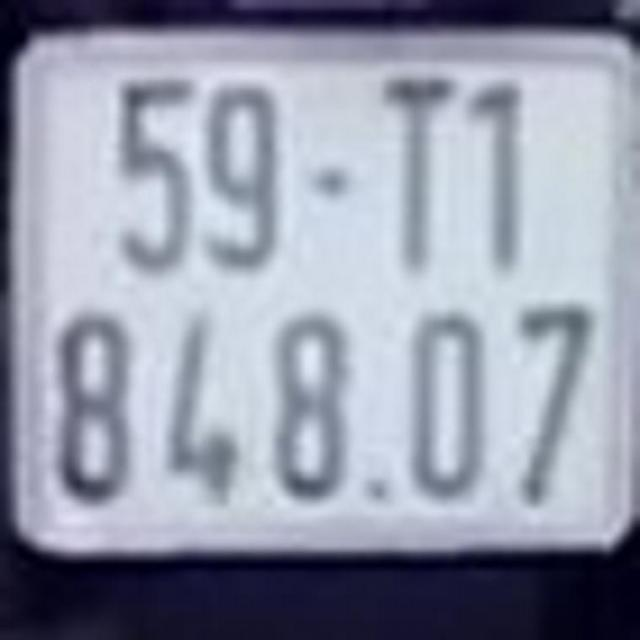0: (406, 292, 484, 503)
1: (464, 70, 532, 278)
4: (162, 307, 241, 511)
5: (118, 73, 198, 274)
7: (510, 292, 593, 506)
8: (265, 302, 343, 514), (53, 306, 134, 508)
9: (200, 70, 279, 276)
T: (379, 65, 461, 266)
